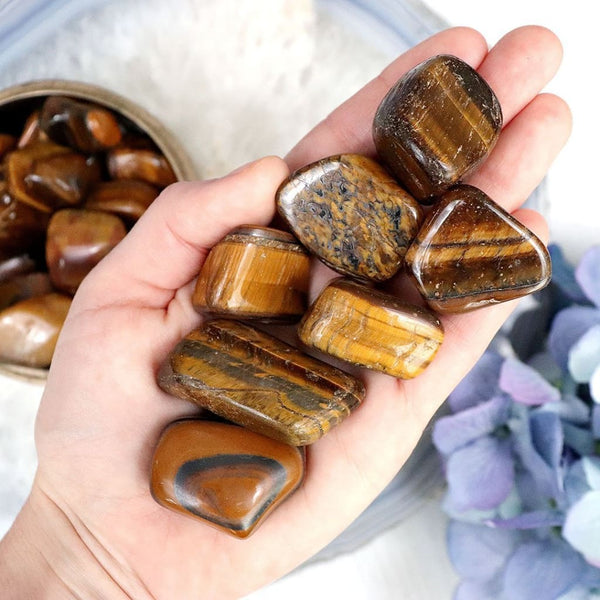Tigers_Eye: (149, 318, 373, 538), (371, 55, 552, 316)
